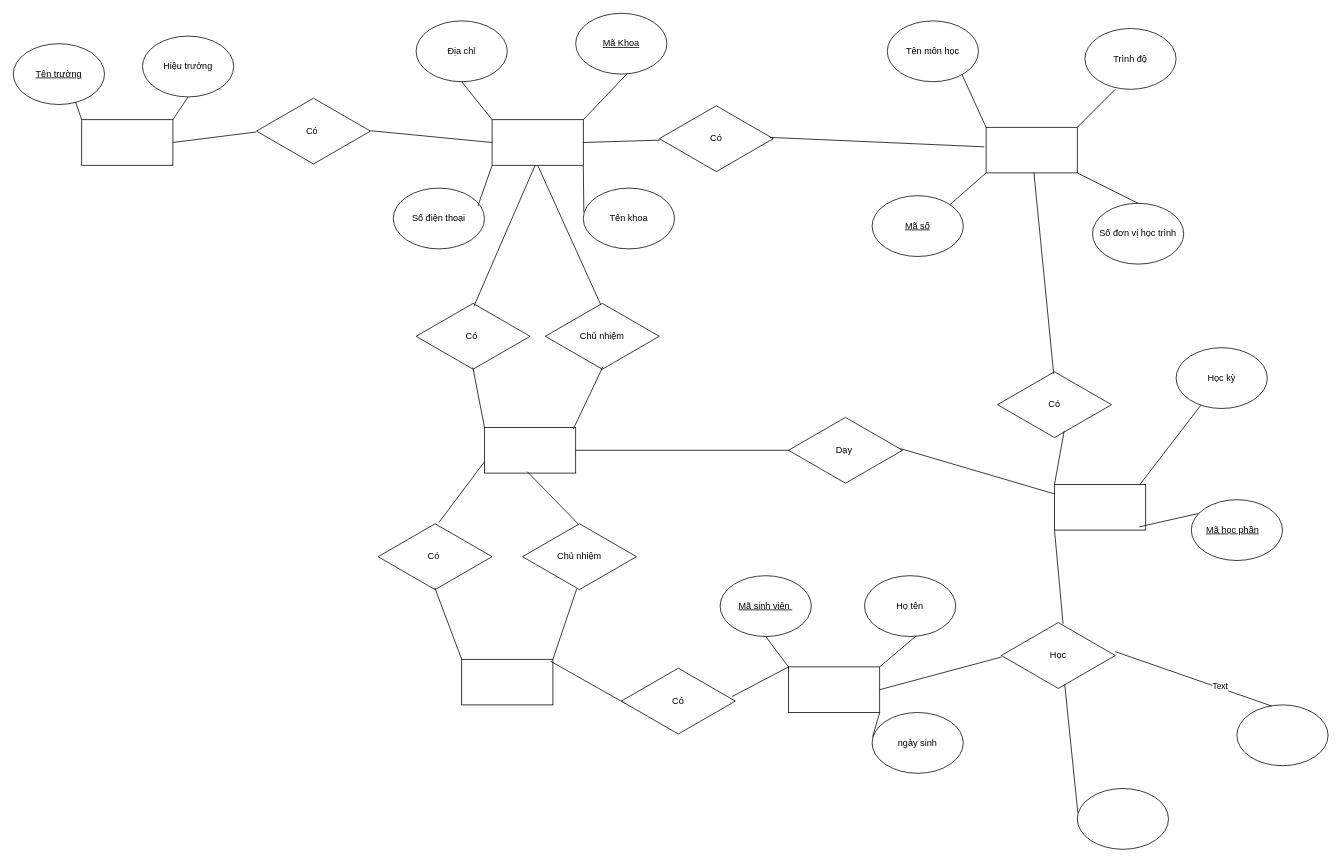
This 1341x863 diagram has some shape labels left out. Here are the shapes that lost their labels. From the top down, the centre of each, then its label:
point 127,142: Trường
point 537,142: Khoa
point 1031,150: môn học
point 530,450: Giáo viên
point 1100,507: Học phần
point 507,682: Lớp
point 834,689: Sinh viên
point 1282,735: Điểm bằng chữ
point 1122,818: Điểm bằng số
